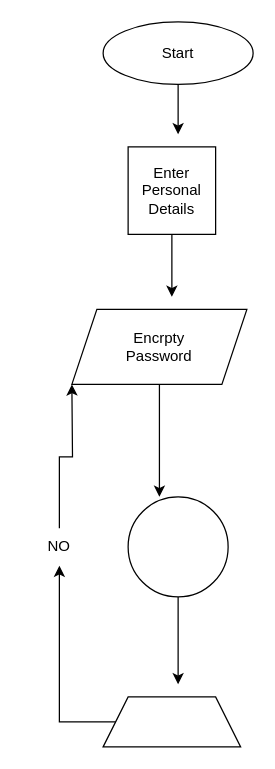
This 275x769 diagram has some shape labels left out. The shapes that lost their labels are listed below. From the top down, each one's centre as x and y in pixels, then its label:
At [177,546]: "Add User to Database".
At [171,721]: "Exit".
